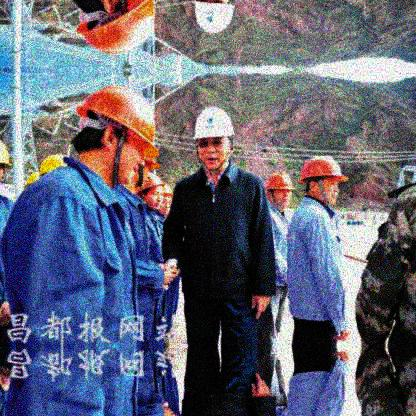helmet: (77, 84, 159, 186), (192, 105, 235, 169), (298, 155, 341, 204), (269, 170, 293, 205), (146, 176, 163, 211), (162, 183, 173, 218)
